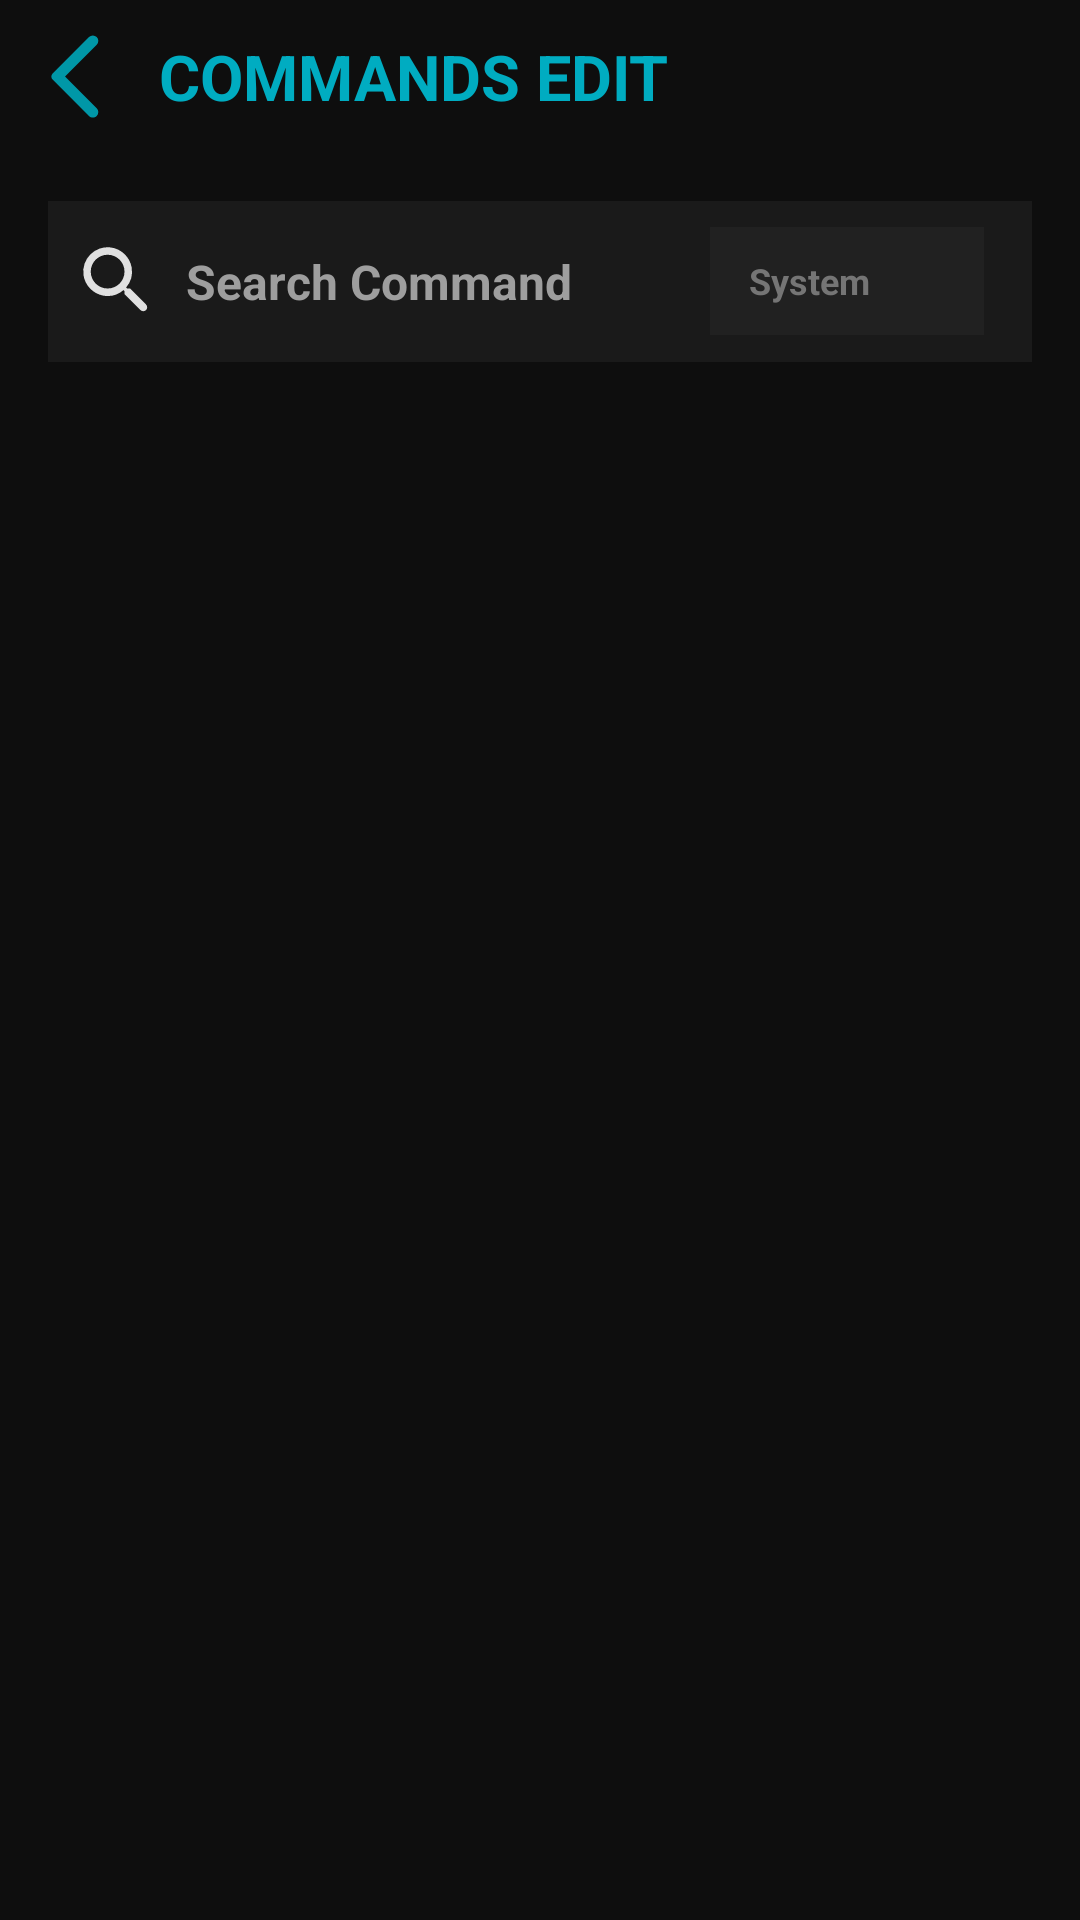

Icons on this 1080px x 1920px Android screen, each with the point to tap as (x,y):
arrow back roundd: (75,76)
search round: (115,279)
